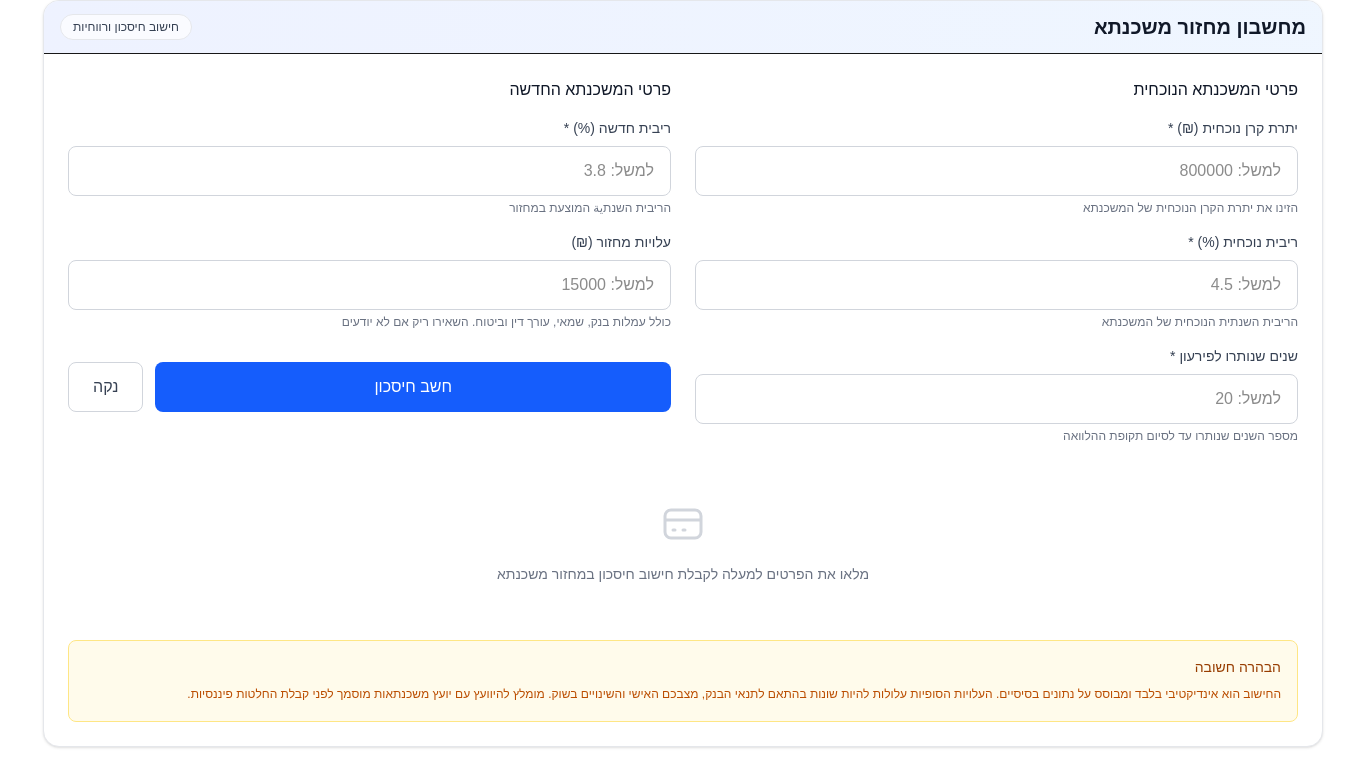
Scenario: MortgageRefinanceCalculatorEnhanced › Form Validation › validates numeric ranges correctly
The image size is (1366, 760).
# Test extreme values
Type "100000000" into the number field labelled "יתרת קרן נוכחית (₪) *". click: (996, 171)
box: x1=695 y1=146 x2=1298 y2=196
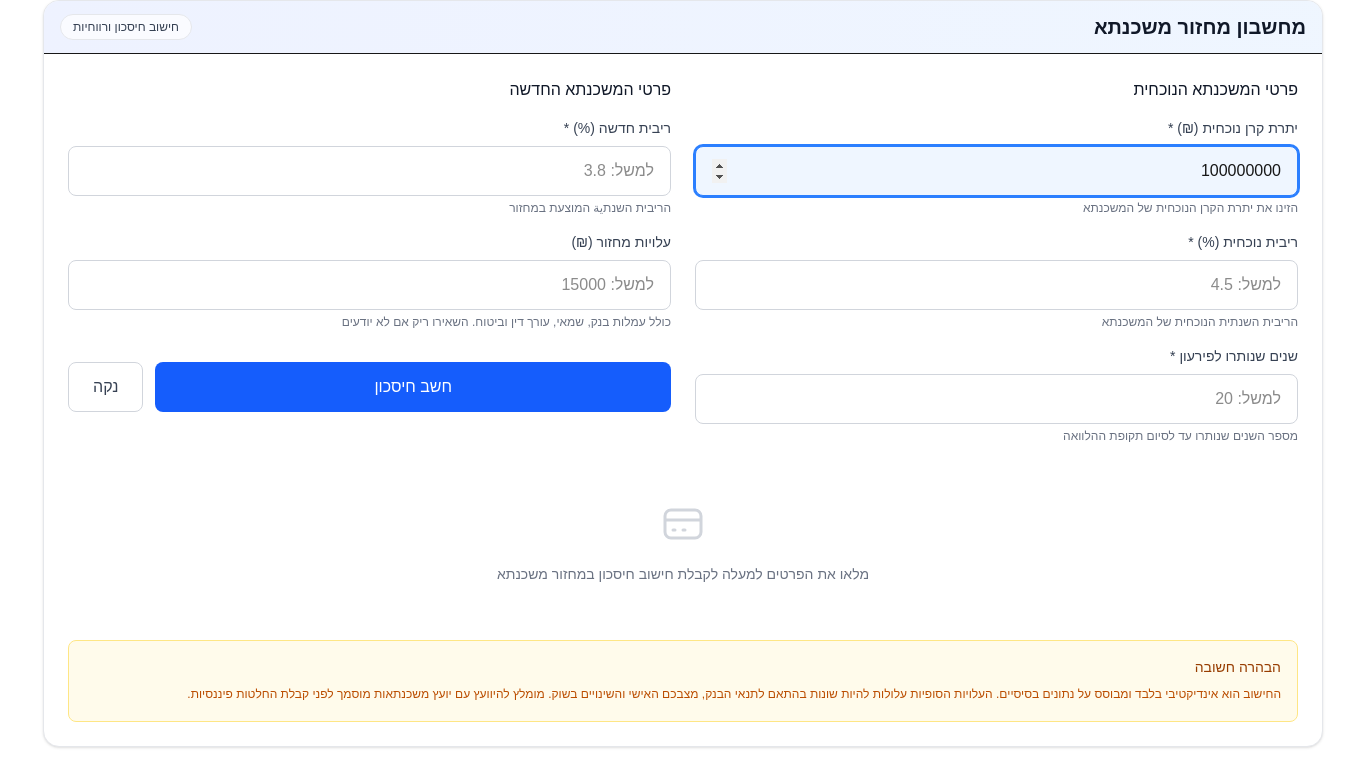
Type "50" into the number field labelled "ריבית נוכחית (%) *". click: (996, 285)
box: x1=695 y1=260 x2=1298 y2=310
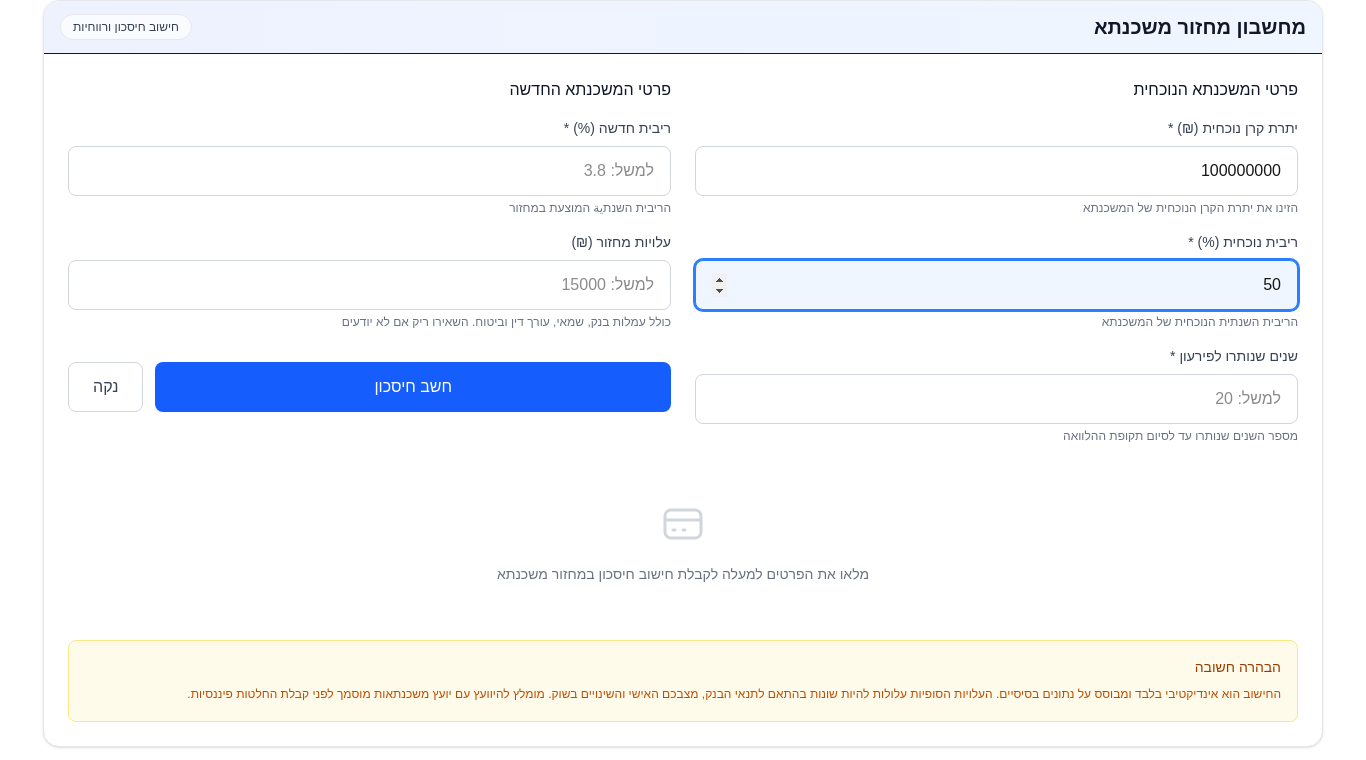
Type "50" into the number field labelled "שנים שנותרו לפירעון *". click: (996, 399)
box: x1=695 y1=374 x2=1298 y2=424
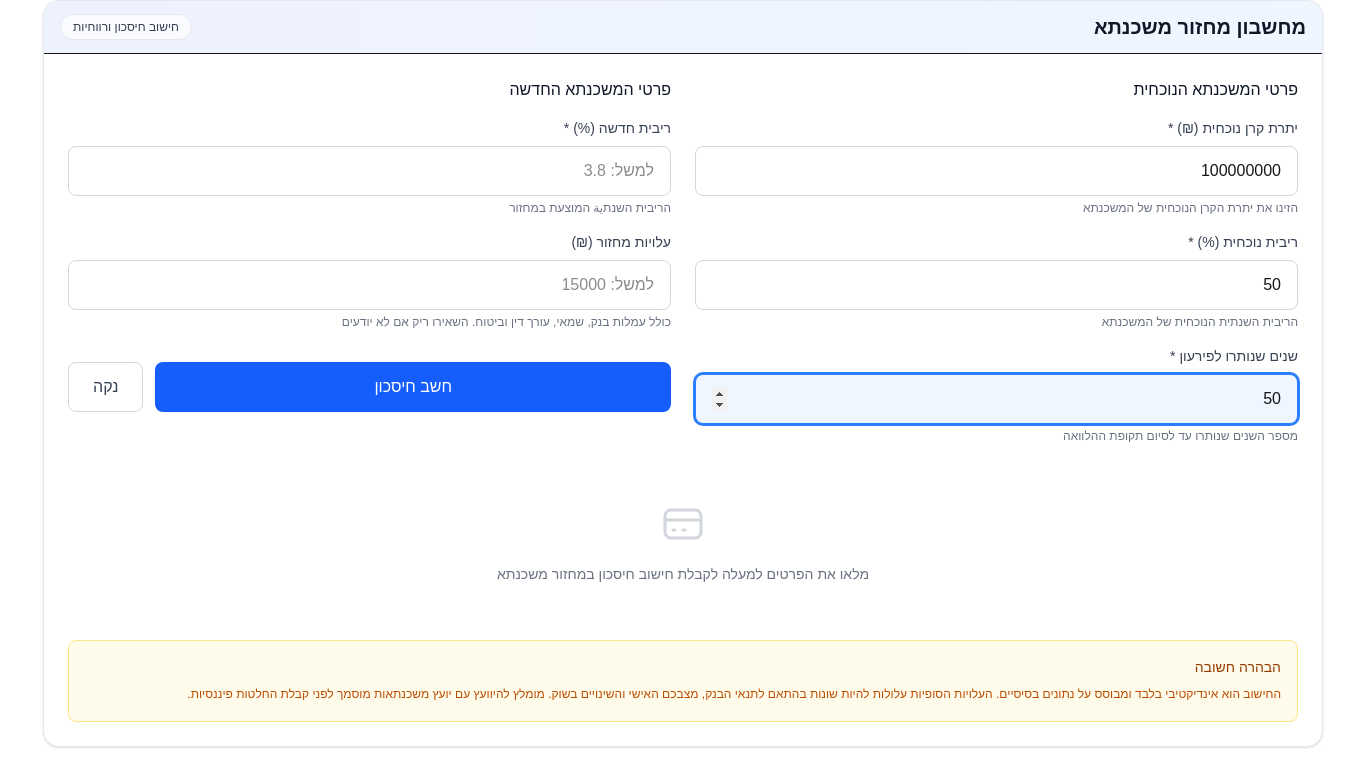
Click the button "חשב חיסכון". click: (413, 387)
box: x1=156 y1=362 x2=671 y2=412
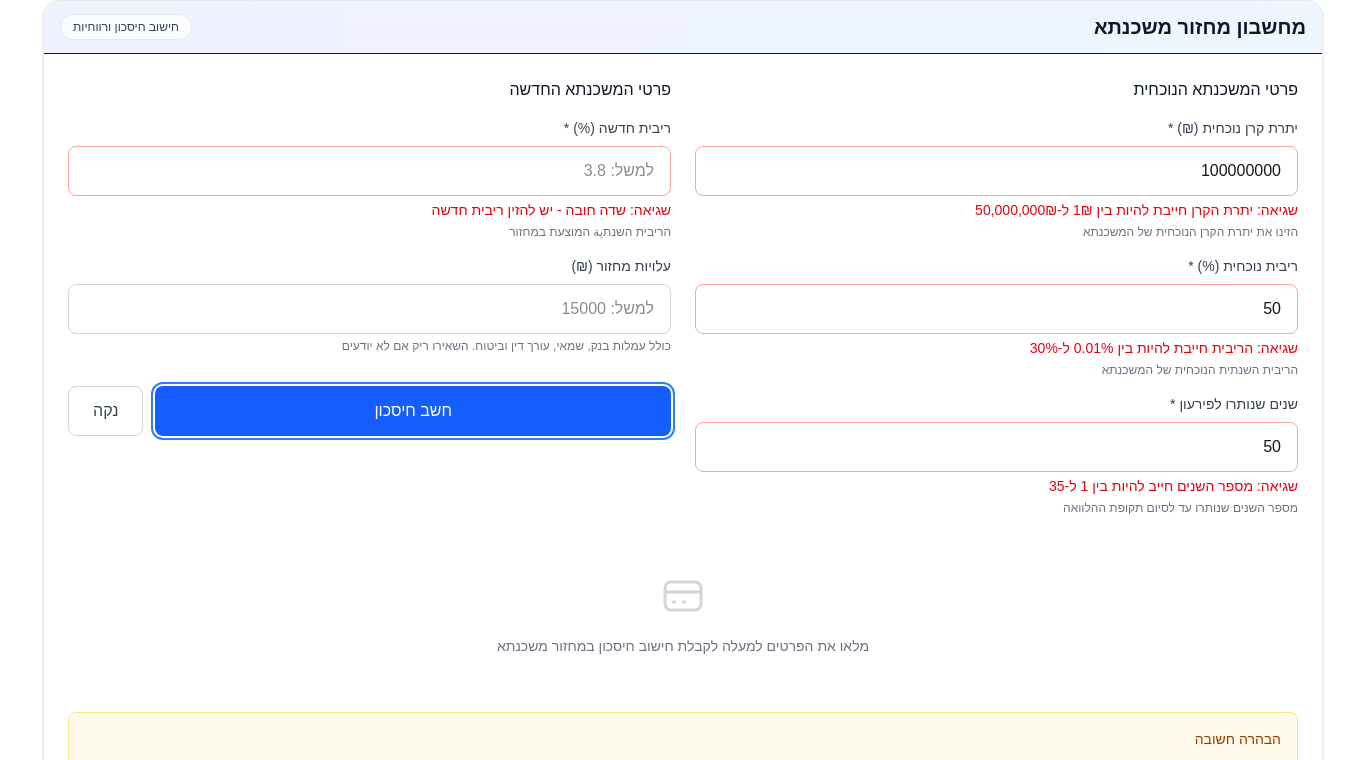
Expected: the text "שגיאה: יתרת הקרן חייבת להיות בין 1₪ ל-50,000,000₪" is shown, x1=975 y1=202 x2=1298 y2=218
Expected: the text "שגיאה: הריבית חייבת להיות בין 0.01% ל-30%" is shown, x1=1030 y1=340 x2=1298 y2=356
Expected: the text "שגיאה: מספר השנים חייב להיות בין 1 ל-35" is shown, x1=1049 y1=478 x2=1298 y2=494
